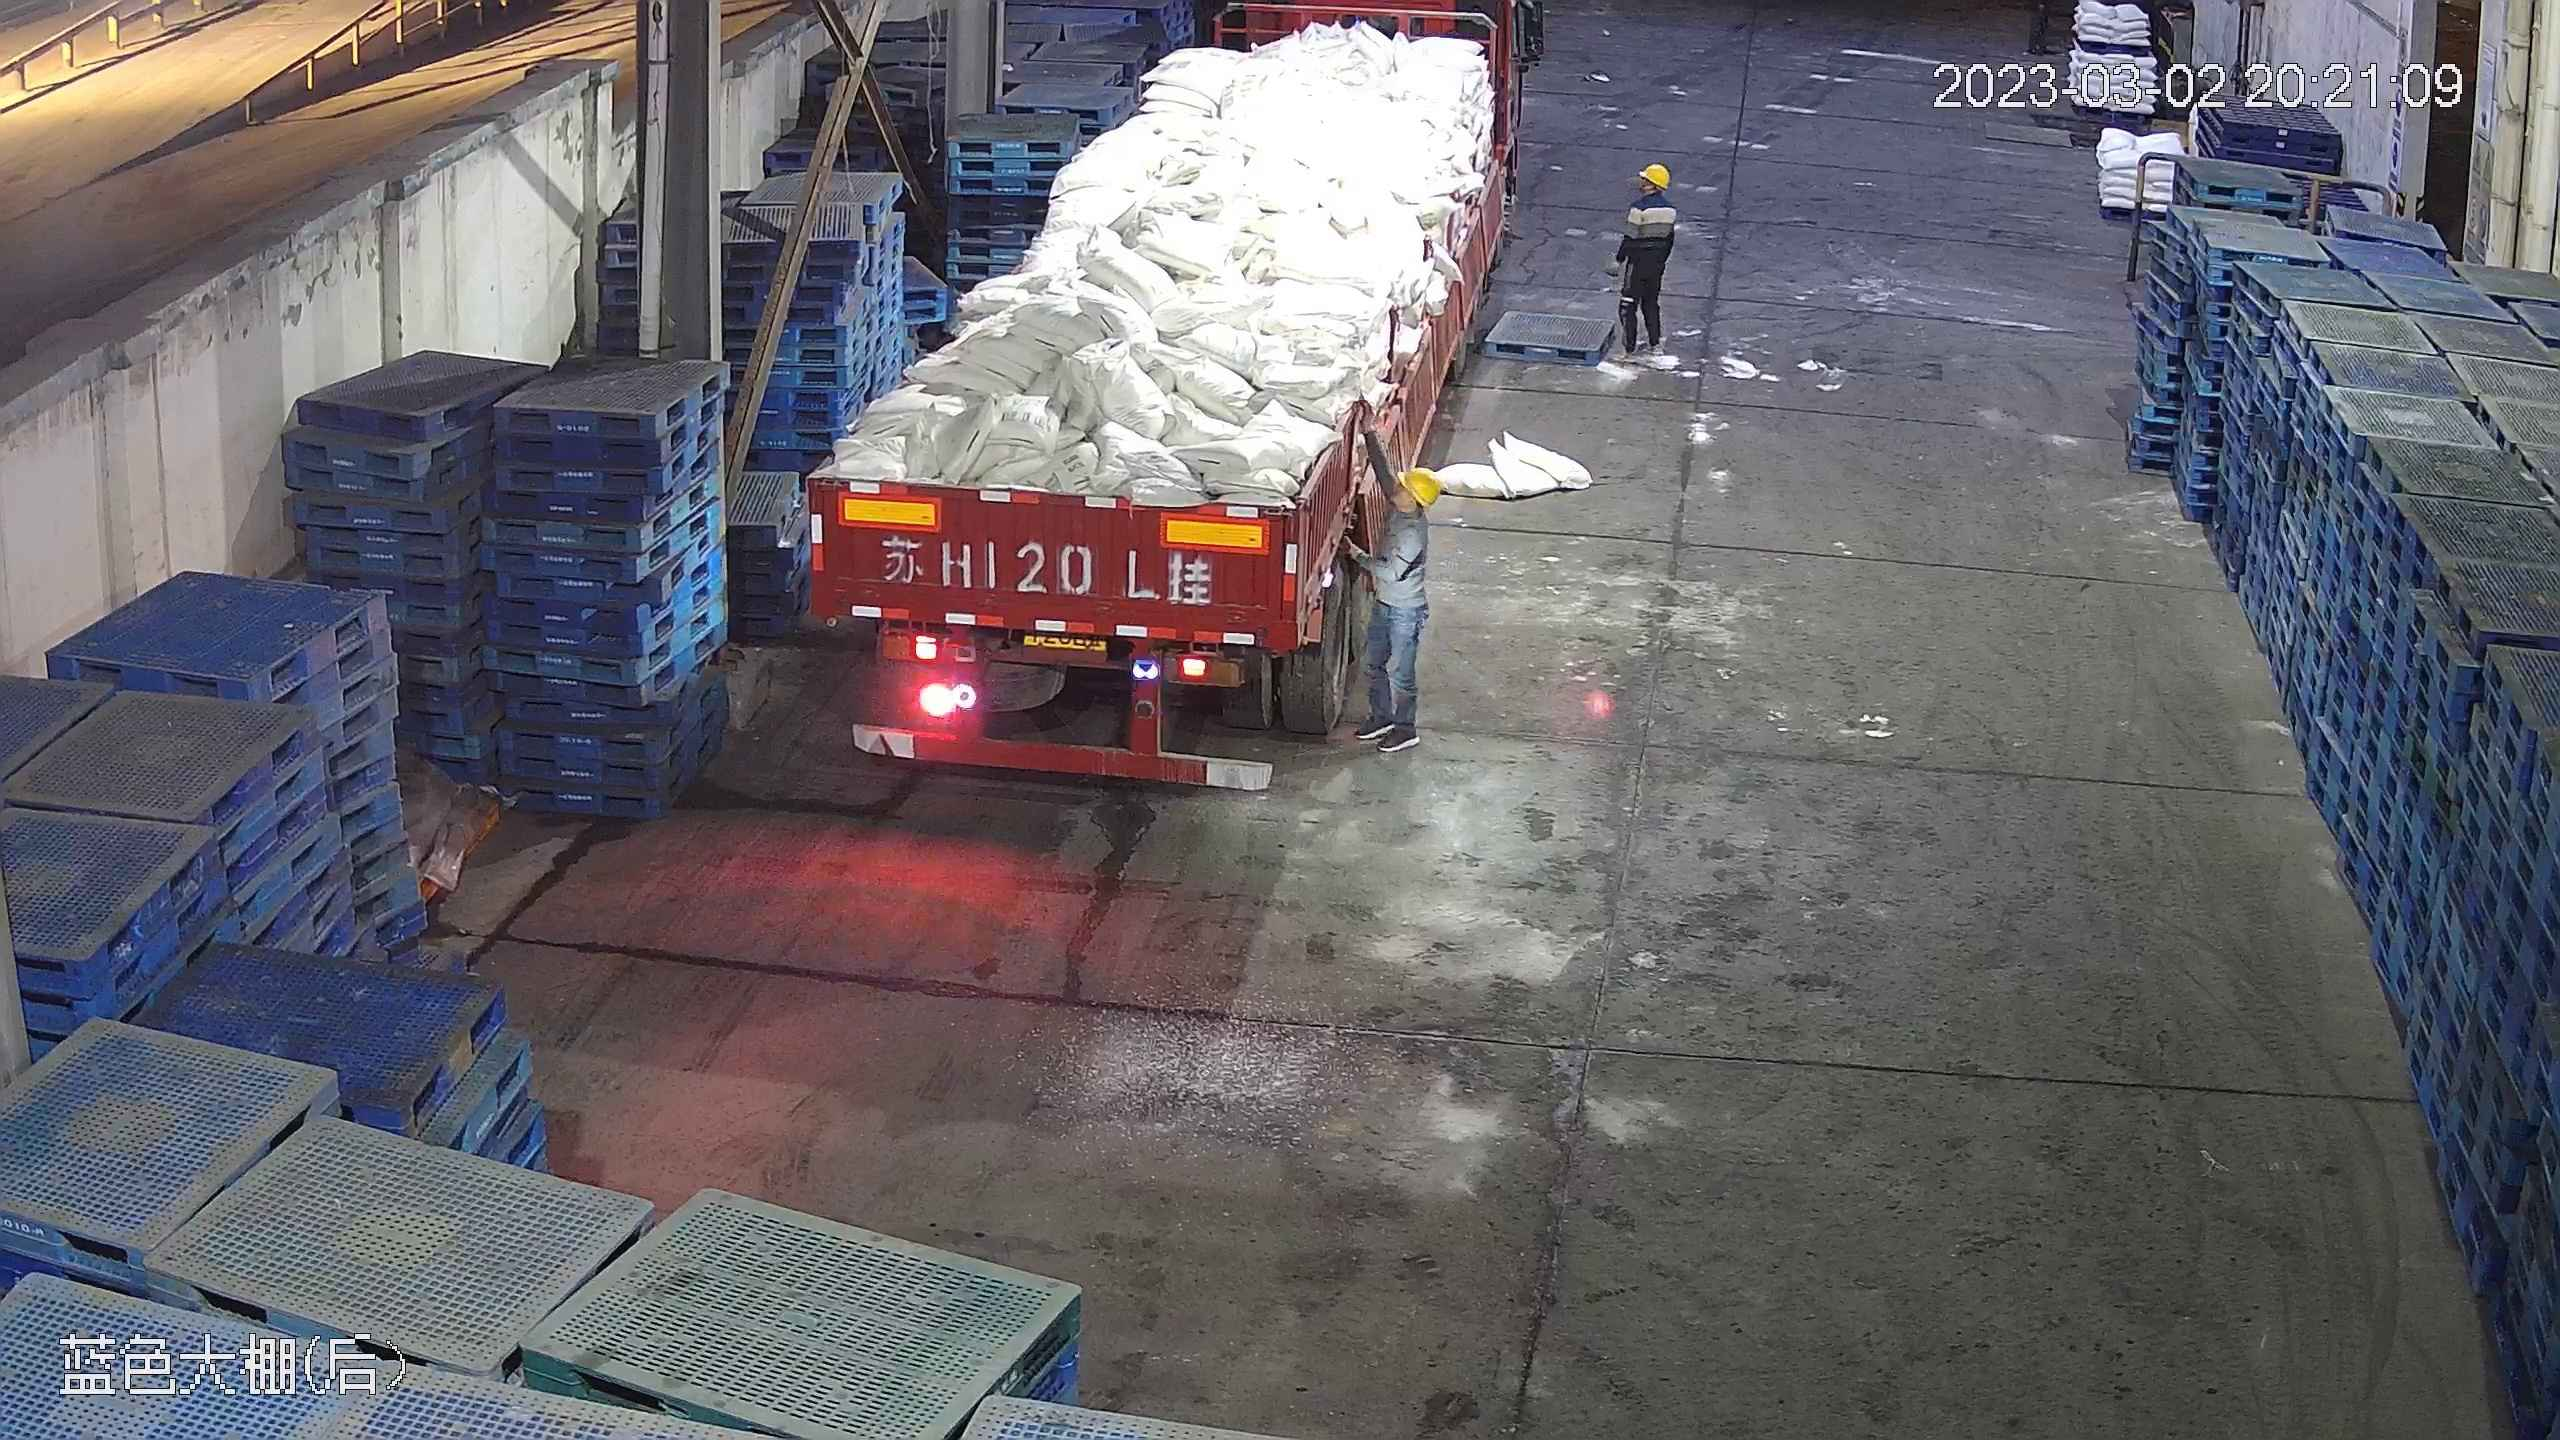head: (1355, 467, 1442, 552), (1622, 162, 1680, 223)
helmet: (1397, 466, 1444, 509), (1638, 161, 1667, 187)
people: (1342, 461, 1442, 755), (1607, 165, 1682, 364)
truck: (795, 4, 1539, 791)
